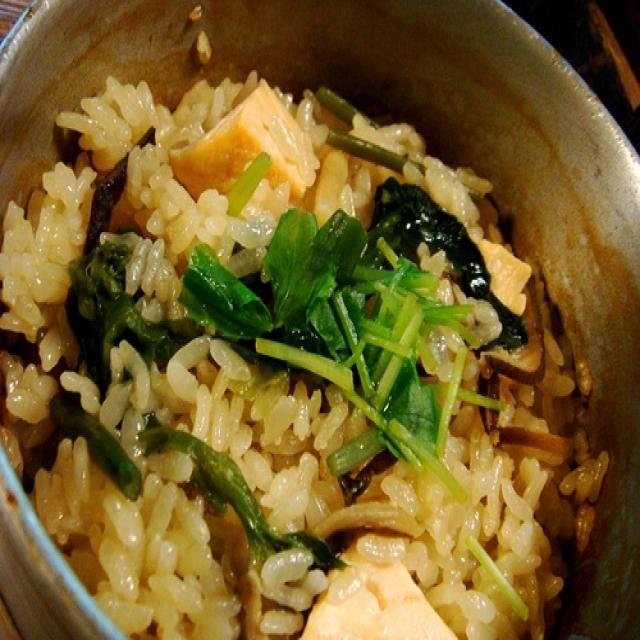蔬菜料理: (34, 0, 586, 640)
